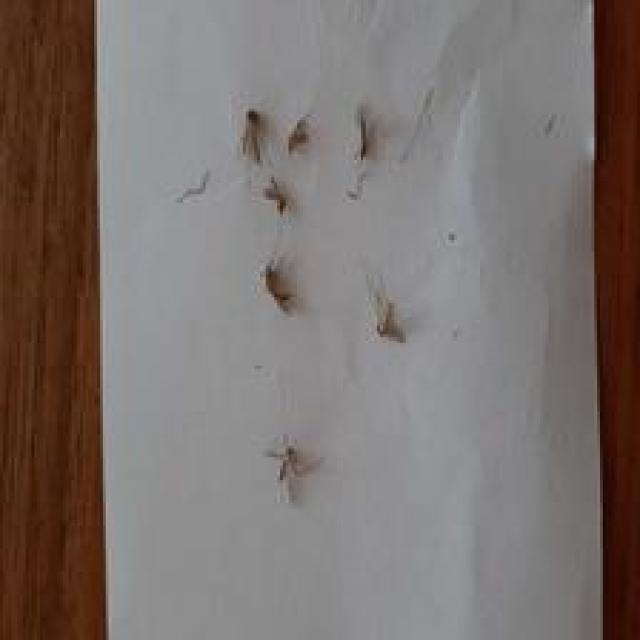Culex: (266, 433, 323, 504)
